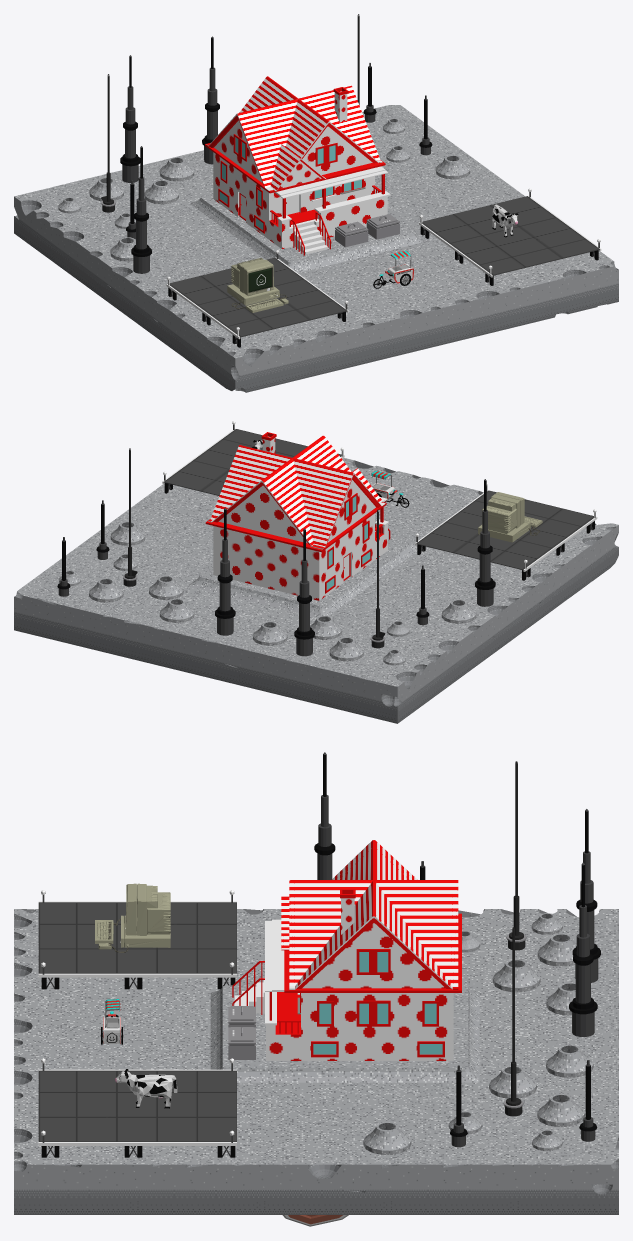
The picture shows the model from 3 angles, top to bottom: view 1: azimuth 30°, elevation 25°; view 2: azimuth 150°, elevation 25°; view 3: azimuth 270°, elevation 25°; orthographic projection. The views are drawn at different scales.
Visible parts, largest first — view 1: Cube.027, Cube.196, Cube.026, Cube.025, Cube.028, OBJRANDOM_RETRO_PC, Cylinder.021, Cylinder.020, Cylinder.017, VEHICLES_SNOWBAL_BIKE, Cube.029, Cube.030 (+6 smaller); view 2: Cube.027, Cube.196, Cube.025, Cube.028, Cube.026, OBJRANDOM_RETRO_PC, Cylinder.020, Cylinder.017, Cylinder.021, Cylinder.029, Cylinder.025, Cylinder.031 (+8 smaller); view 3: Cube.027, Cube.196, Cube.026, Cube.025, Cube.028, OBJRANDOM_RETRO_PC, Cylinder.017, Cylinder.020, ANIMAL_VACA, Cylinder.021, Cylinder.033, Cylinder.031 (+11 smaller).
Part boxes in pixels (x1=…): Cube.027: x1=14, y1=105, x2=618, y2=392; Cube.196: x1=205, y1=76, x2=390, y2=255; Cube.026: x1=419, y1=188, x2=601, y2=285; Cube.025: x1=166, y1=250, x2=348, y2=347; Cube.028: x1=190, y1=194, x2=422, y2=272; OBJRANDOM_RETRO_PC: x1=227, y1=258, x2=288, y2=312; Cylinder.021: x1=131, y1=146, x2=151, y2=273; Cylinder.020: x1=120, y1=55, x2=140, y2=182; Cylinder.017: x1=202, y1=36, x2=219, y2=164; VEHICLES_SNOWBAL_BIKE: x1=373, y1=250, x2=413, y2=288; Cube.029: x1=335, y1=221, x2=368, y2=247; Cube.030: x1=366, y1=214, x2=399, y2=239; Cube.027: x1=14, y1=458, x2=618, y2=723; Cube.196: x1=205, y1=432, x2=390, y2=600; Cube.025: x1=415, y1=483, x2=597, y2=580; Cube.028: x1=189, y1=535, x2=417, y2=617; Cube.026: x1=162, y1=421, x2=344, y2=495; OBJRANDOM_RETRO_PC: x1=478, y1=492, x2=542, y2=542; Cylinder.020: x1=294, y1=528, x2=314, y2=656; Cylinder.017: x1=215, y1=508, x2=235, y2=635; Cylinder.021: x1=475, y1=479, x2=495, y2=606; Cylinder.029: x1=159, y1=598, x2=194, y2=622; Cylinder.025: x1=441, y1=599, x2=476, y2=623; Cylinder.031: x1=89, y1=578, x2=123, y2=602; Cube.027: x1=14, y1=909, x2=618, y2=1214; Cube.196: x1=232, y1=840, x2=461, y2=1060; Cube.026: x1=38, y1=1058, x2=236, y2=1157; Cube.025: x1=38, y1=890, x2=236, y2=989; Cube.028: x1=210, y1=985, x2=479, y2=1082; OBJRANDOM_RETRO_PC: x1=95, y1=883, x2=170, y2=952; Cylinder.017: x1=569, y1=862, x2=597, y2=1036; Cylinder.020: x1=572, y1=809, x2=600, y2=982; ANIMAL_VACA: x1=115, y1=1069, x2=177, y2=1108; Cylinder.021: x1=314, y1=752, x2=335, y2=879; Cylinder.033: x1=363, y1=1122, x2=411, y2=1154; Cylinder.031: x1=537, y1=1094, x2=584, y2=1126.
Bounding box in the file's own units: 4000 × 2515 × 4000.
35 materials, 5 textured.
